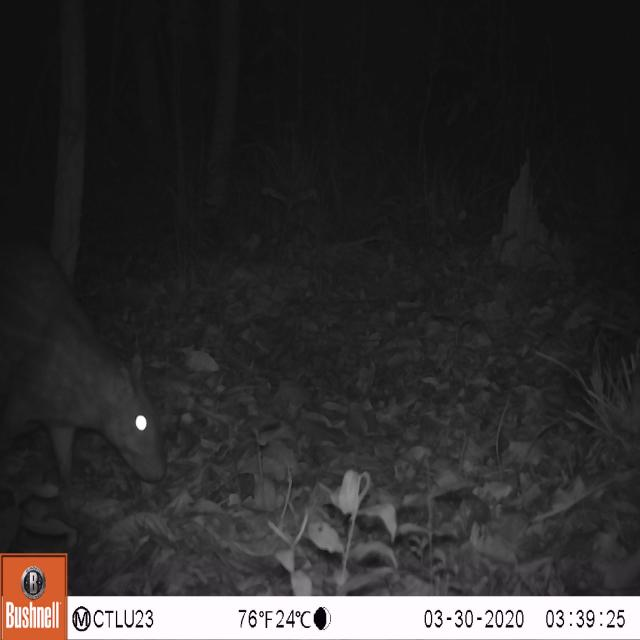Spotted Paca: (0, 195, 203, 520)
